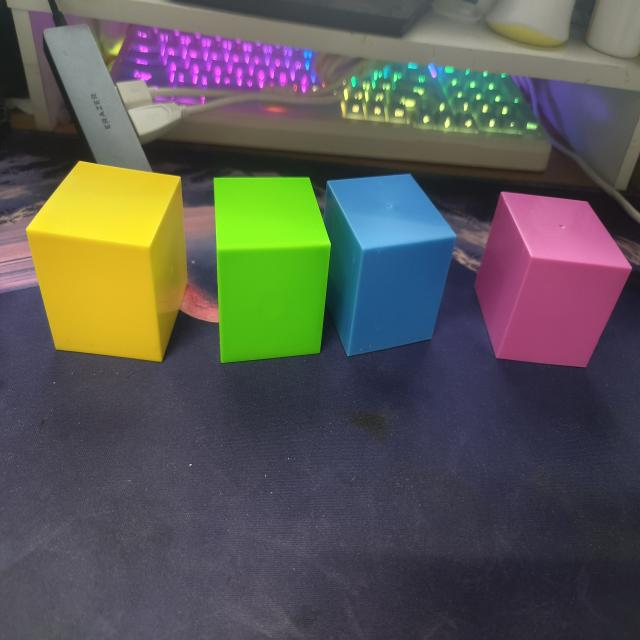blue: (320, 173, 457, 358)
green: (212, 175, 332, 365)
pink: (476, 191, 633, 370)
yellow: (26, 162, 188, 365)
